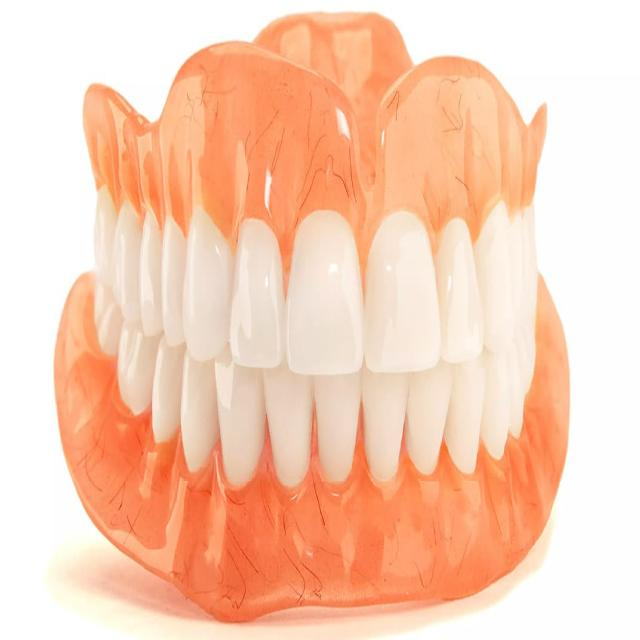tooth: (288, 223, 360, 364), (360, 247, 430, 364), (235, 223, 288, 363), (188, 228, 244, 329), (313, 364, 365, 468), (223, 364, 269, 478), (149, 323, 189, 448), (470, 224, 517, 330), (269, 364, 313, 468), (448, 360, 493, 461), (365, 364, 403, 479), (120, 324, 150, 448), (430, 247, 470, 330), (155, 228, 188, 322), (414, 367, 443, 469), (132, 194, 154, 322), (514, 213, 544, 300), (186, 366, 213, 459), (120, 203, 136, 312), (518, 337, 542, 402), (509, 353, 526, 435), (492, 359, 507, 439)
